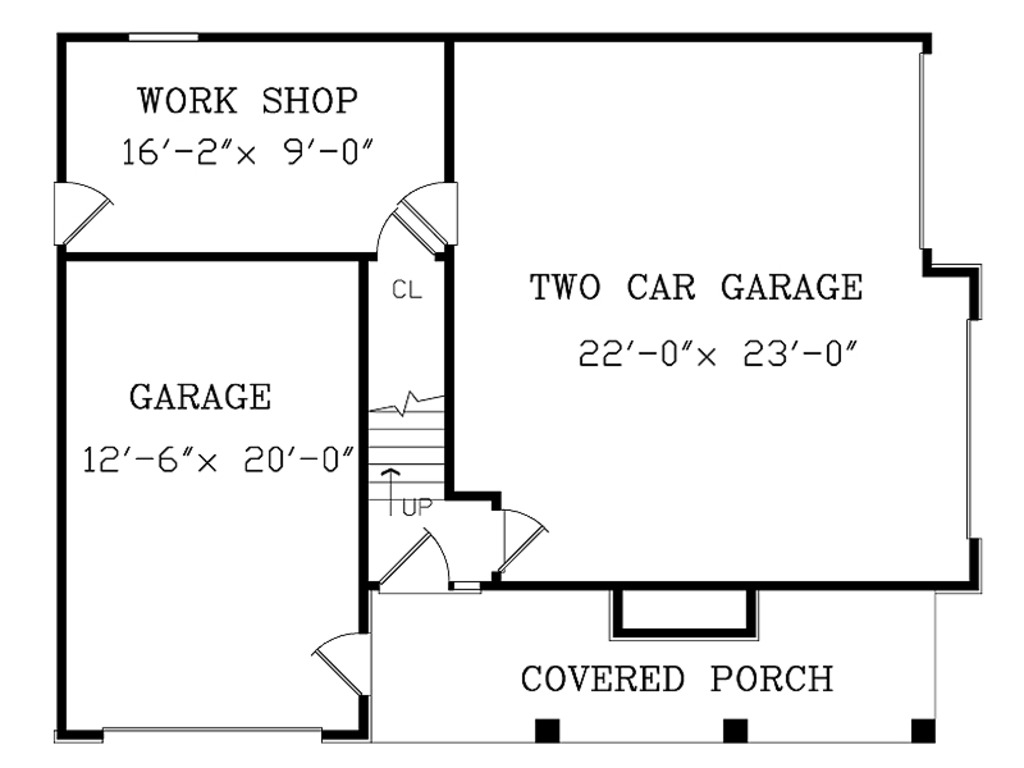door: (375, 527, 488, 597), (306, 625, 391, 697), (392, 176, 469, 250), (48, 176, 121, 247), (370, 205, 446, 271), (496, 506, 546, 577)
stairs: (361, 305, 466, 506)
window: (125, 26, 211, 51)
